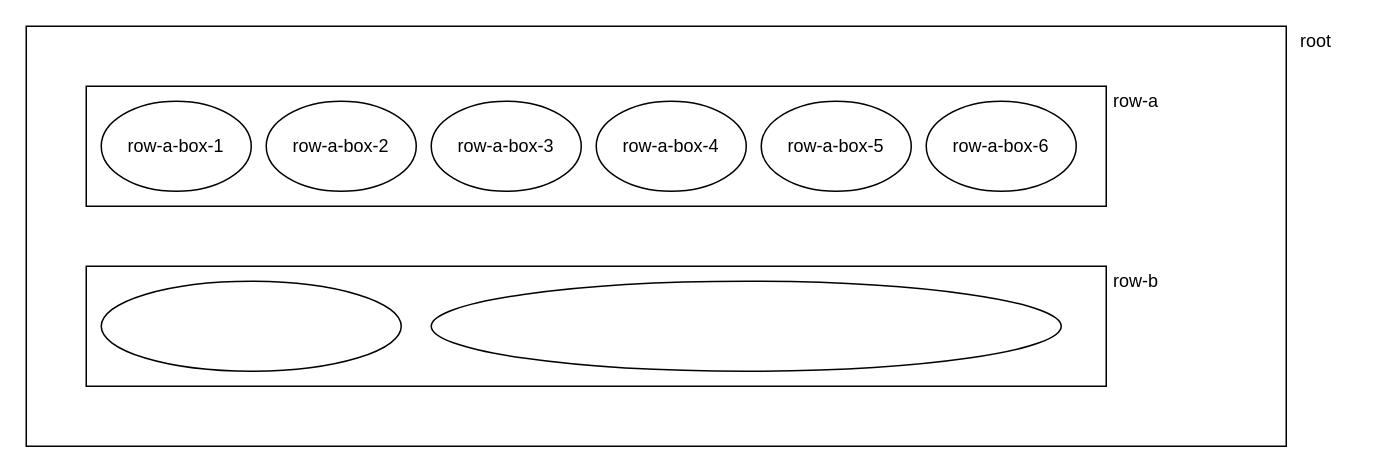
Image size: 1373x473. Some labels were removed from this diagram. The centre of each missing label's shape, as x and y in pixels:
"row-b-box-1" belongs at (x=250, y=325).
"row-b-box-2" belongs at (x=745, y=325).
